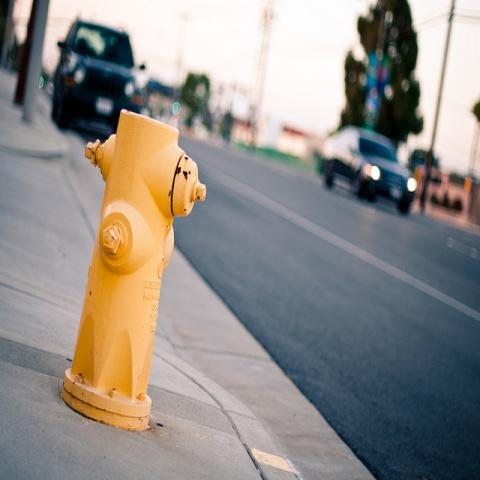car: (314, 127, 417, 215), (40, 68, 53, 98)
truck: (48, 17, 142, 136)
